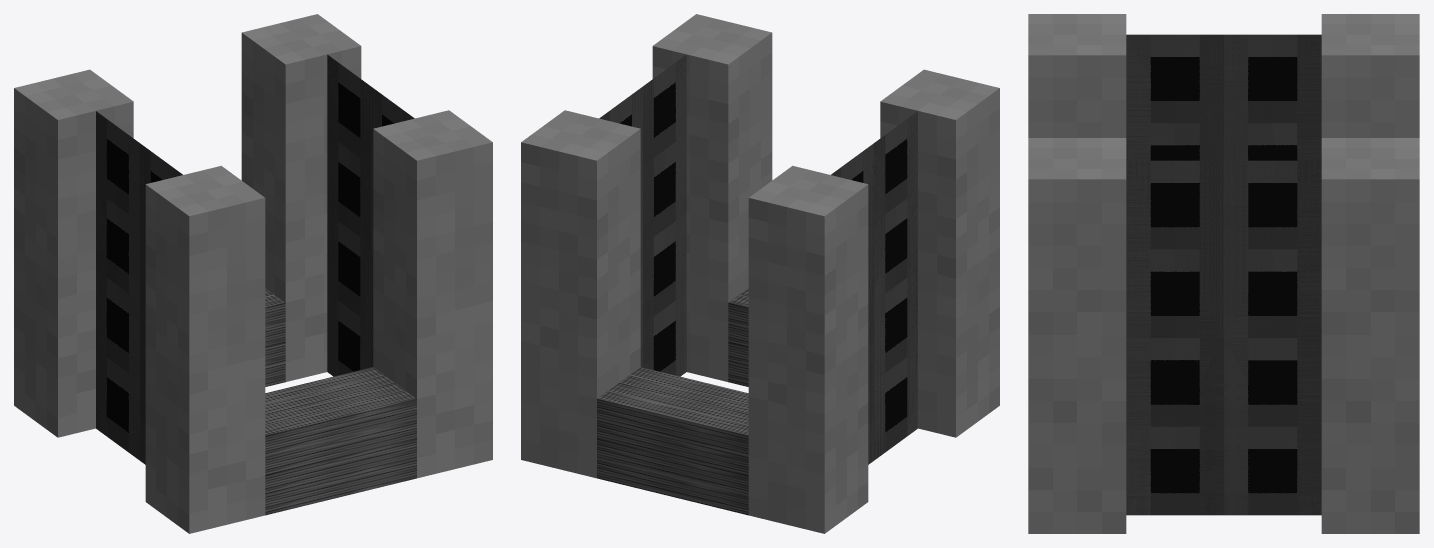
Rendered from conveyor_chute_2.obj.
3 renders of one model, left to right at view 1: azimuth 30°, elevation 25°; view 2: azimuth 150°, elevation 25°; view 3: azimuth 270°, elevation 25°, orthographic. The views are drawn at different scales.
Parts seen in each view (by area): view 1: o4, o3, o1, o2, cvr2, r4, r2, cvr1; view 2: o1, o2, o4, o3, cvr1, r4, r2, cvr2; view 3: r2, o2, o3, r4, o1, o4.
Boxes of the visible parts, x1,y1,x2,y2 form: o4: (145,165,265,533); o3: (373,110,492,478); o1: (14,69,133,437); o2: (241,14,361,381); cvr2: (265,367,416,515); r4: (96,111,182,464); r2: (327,54,414,376); cvr1: (265,288,285,386); o1: (748,165,868,533); o2: (521,110,640,478); o4: (880,69,999,437); o3: (652,14,772,381); cvr1: (597,367,748,515); r4: (831,111,917,464); r2: (599,54,686,376); cvr2: (728,288,748,386); r2: (1126,160,1321,515); o2: (1321,138,1419,533); o3: (1028,138,1126,533); r4: (1126,34,1321,160); o1: (1321,14,1419,137); o4: (1028,14,1126,137).
Bounding box in the file's own units: 1 × 1 × 1.
